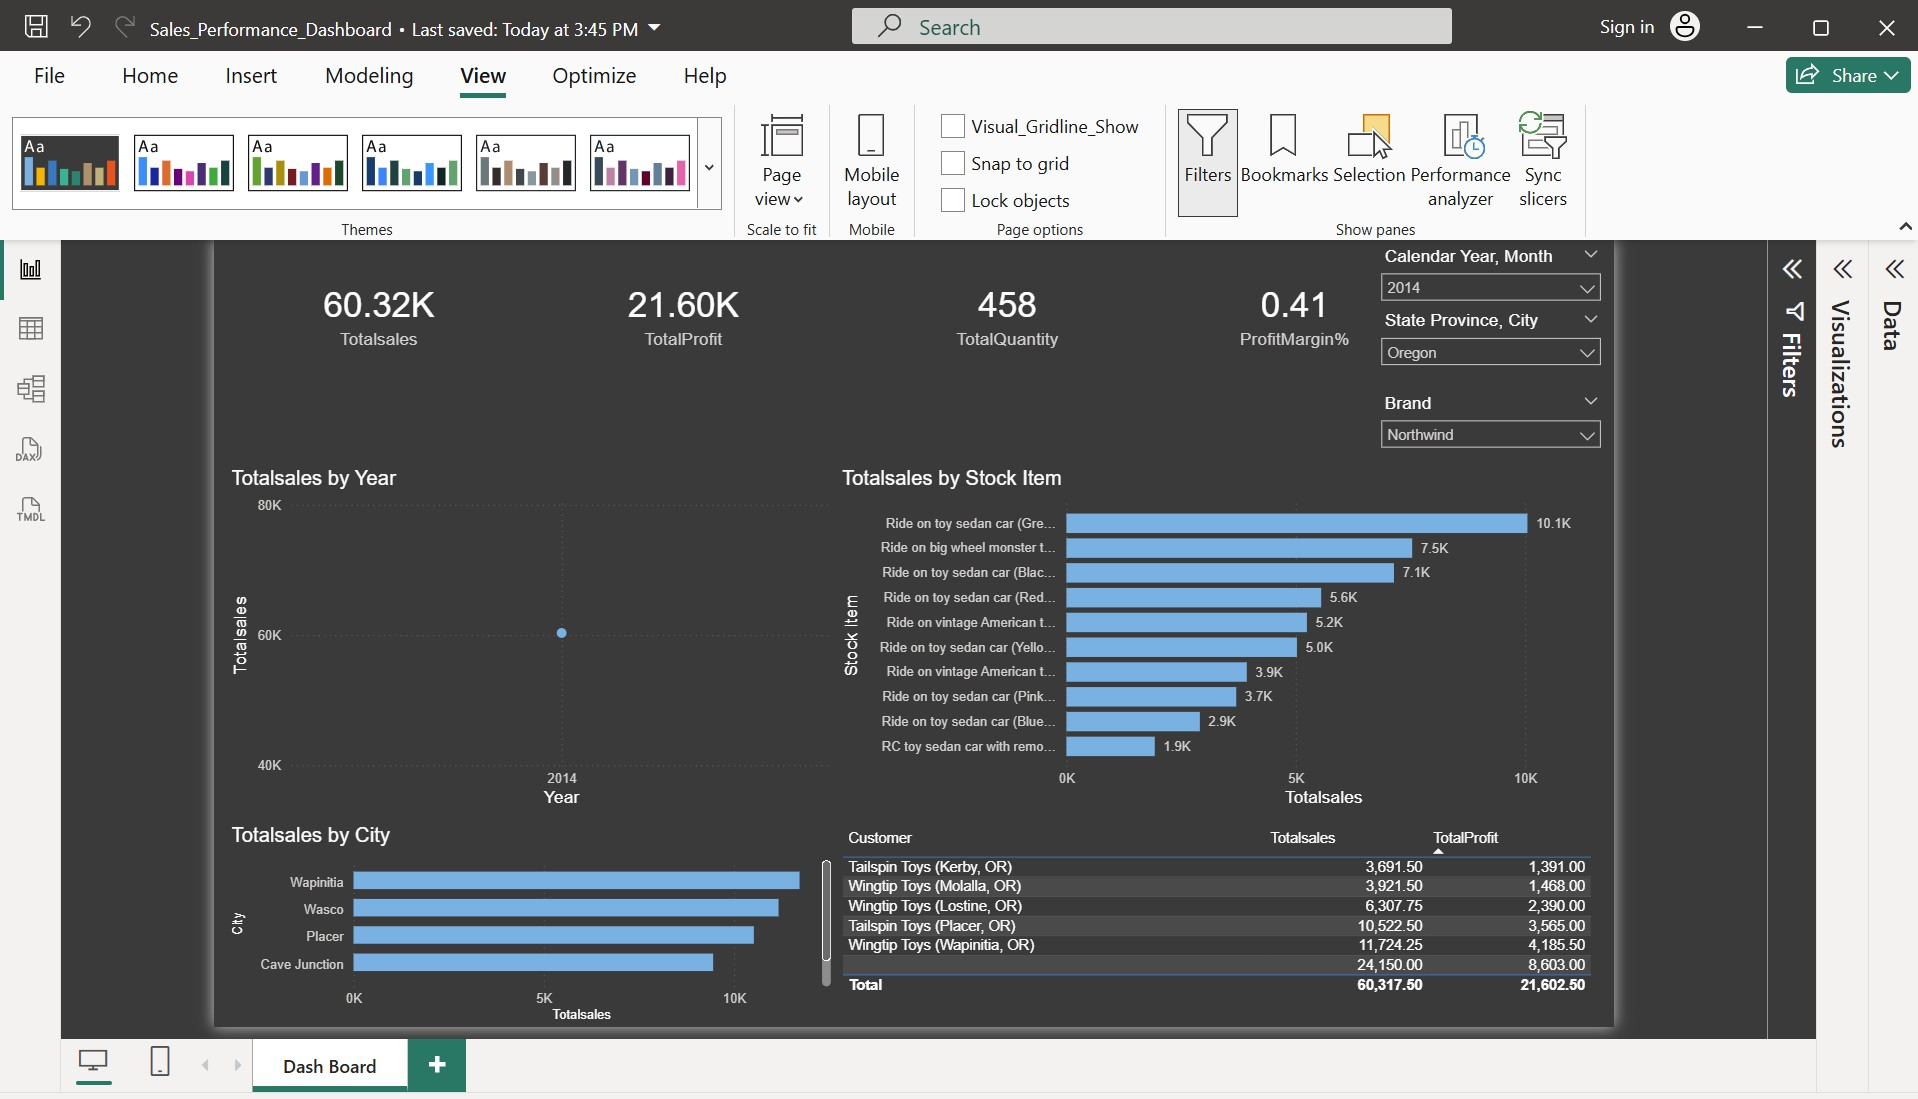

The page's visual inventory and layout, read from the dashboard file:
{"tool":"powerbi","page":{"name":"Dash Board","canvas":[1280,720],"ordinal":0},"visuals":[{"type":"card","fields":{"Values":["FactSale.Totalsales"]},"box":[10.8,0,279.2,134.2],"z":0},{"type":"card","fields":{"Values":["FactSale.TotalProfit"]},"box":[290.1,0,279.2,134.2],"z":1},{"type":"card","fields":{"Values":["FactSale.ProfitMargin%"]},"box":[846.4,0,283.6,134.2],"z":2},{"type":"card","fields":{"Values":["FactSale.TotalQuantity"]},"box":[586.6,0,279.2,134.2],"z":3},{"type":"lineChart","fields":{"Category":["DimDate.Date.Variation.Date Hierarchy.Year"],"Y":["FactSale.Totalsales"]},"box":[10.8,207.8,558.5,316],"z":4},{"type":"barChart","fields":{"Category":["DimStockItem.Stock Item"],"Y":["FactSale.Totalsales"]},"box":[569.3,207.8,697,316],"z":5},{"type":"barChart","fields":{"Category":["DimCity.City"],"Y":["FactSale.Totalsales"]},"box":[11,534,558,186],"z":6},{"type":"tableEx","fields":{"Values":["DimCustomer.Customer","FactSale.Totalsales","FactSale.TotalProfit"]},"box":[569,534,697,186],"z":7},{"type":"slicer","fields":{"Values":["DimDate.Calendar Year","DimDate.Date.Variation.Date Hierarchy.Month"]},"box":[1058.5,0,220.8,67.1],"z":8},{"type":"slicer","fields":{"Values":["DimCity.State Province","DimCity.City"]},"box":[1058.5,58.4,220.8,75.8],"z":9},{"type":"slicer","fields":{"Values":["DimStockItem.Brand"]},"box":[1058.5,134.2,220.8,73.6],"z":10}]}

Visuals, with their boxes on the page's 1280x720 design canvas (x1, y1, x2, y2). These are canvas units, not pixel positions in the 1918x1099 screenshot, which may show the page scaled, cropped or inside an application window:
card - FactSale.Totalsales: box(11, 0, 290, 134)
card - FactSale.TotalProfit: box(290, 0, 569, 134)
card - FactSale.ProfitMargin%: box(846, 0, 1130, 134)
card - FactSale.TotalQuantity: box(587, 0, 866, 134)
lineChart - DimDate.Date.Variation.Date Hierarchy.Year x FactSale.Totalsales: box(11, 208, 569, 524)
barChart - DimStockItem.Stock Item x FactSale.Totalsales: box(569, 208, 1266, 524)
barChart - DimCity.City x FactSale.Totalsales: box(11, 534, 569, 720)
tableEx - DimCustomer.Customer x FactSale.Totalsales: box(569, 534, 1266, 720)
slicer - DimDate.Calendar Year x DimDate.Date.Variation.Date Hierarchy.Month: box(1058, 0, 1279, 67)
slicer - DimCity.State Province x DimCity.City: box(1058, 58, 1279, 134)
slicer - DimStockItem.Brand: box(1058, 134, 1279, 208)
